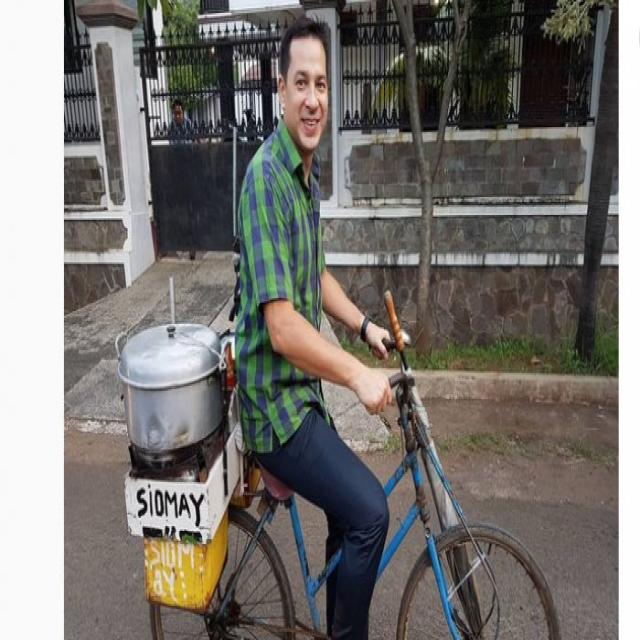Sepeda-motor: (97, 7, 529, 640)
